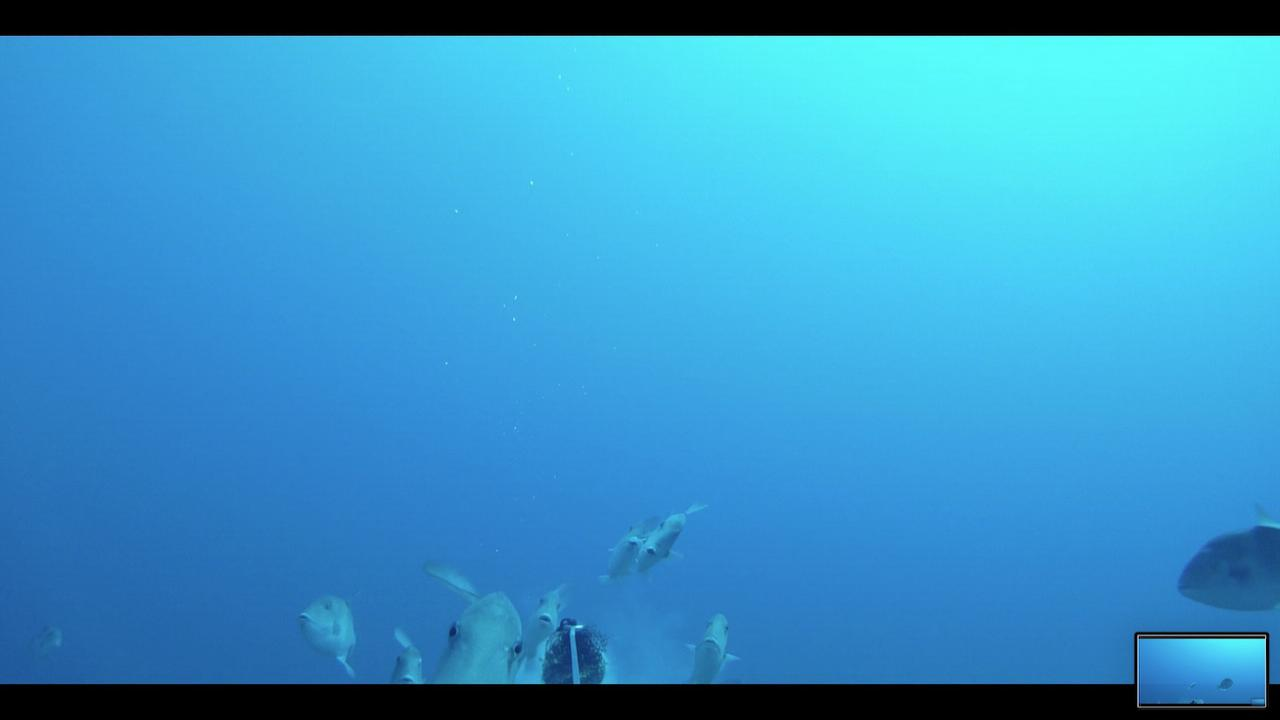balistes: (415, 556, 524, 682), (1172, 499, 1279, 614), (622, 488, 711, 570), (290, 575, 361, 673), (590, 510, 669, 582), (519, 578, 576, 662), (680, 610, 740, 682), (387, 623, 429, 680)
